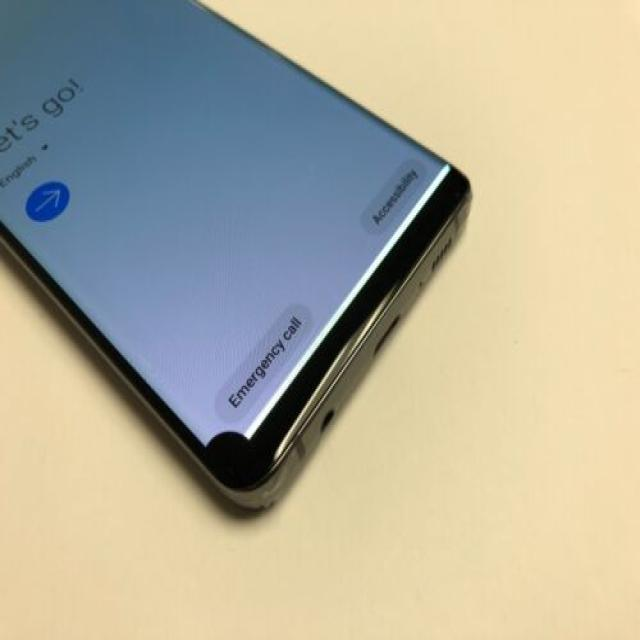dead pixel: (186, 405, 264, 495)
